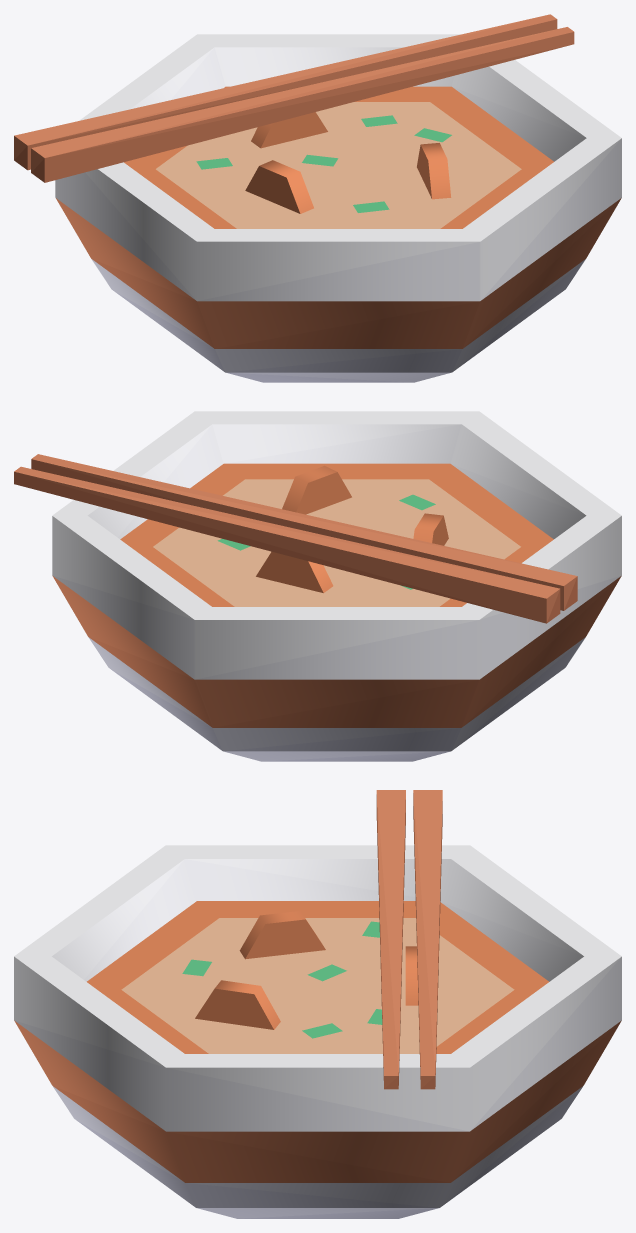
3 renders of one model, top to bottom at view 1: azimuth 30°, elevation 25°; view 2: azimuth 150°, elevation 25°; view 3: azimuth 270°, elevation 25°, orthographic. The views are drawn at different scales.
Parts seen in each view (by area): view 1: bowl-soup, chopstick, chopstick.001; view 2: bowl-soup, chopstick.001, chopstick; view 3: bowl-soup, chopstick.001, chopstick.
Part boxes in pixels (bbox=[...]): bowl-soup: bbox=[55, 34, 621, 382]; chopstick: bbox=[31, 27, 574, 182]; chopstick.001: bbox=[14, 14, 557, 170]; bowl-soup: bbox=[52, 411, 621, 761]; chopstick.001: bbox=[14, 466, 560, 623]; chopstick: bbox=[31, 454, 577, 610]; bowl-soup: bbox=[14, 845, 621, 1218]; chopstick.001: bbox=[413, 790, 442, 1089]; chopstick: bbox=[376, 790, 405, 1089].
Bounding box in the file's own units: 0.2447 × 0.094 × 0.2252.
